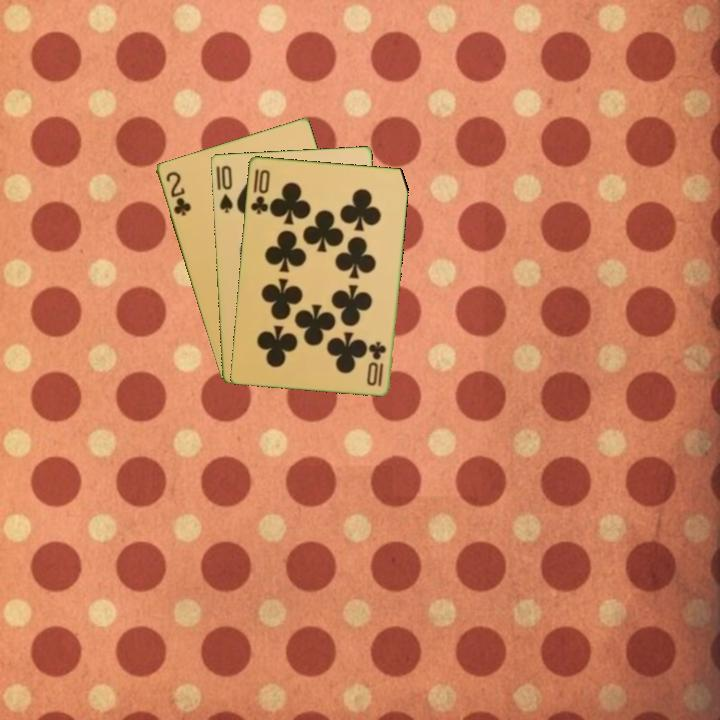10c: (247, 165, 273, 217), (367, 338, 389, 389)
10s: (216, 162, 235, 215)
2c: (162, 168, 194, 219)
